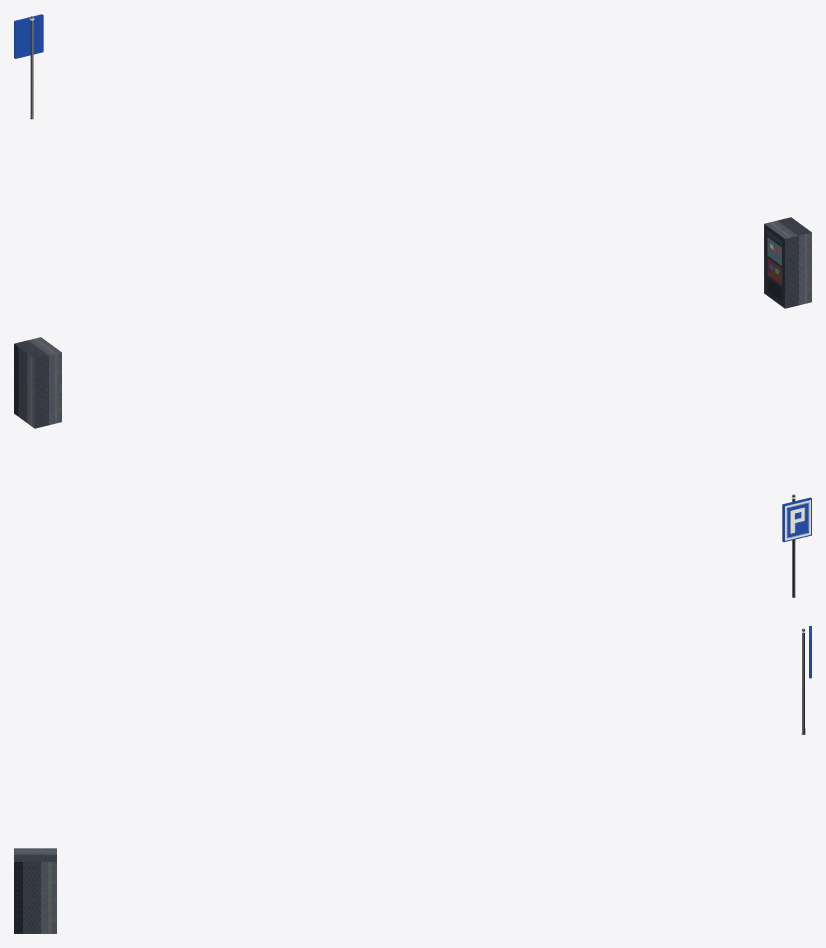
Rendered from lot_props.glb.
3 renders of one model, top to bottom at view 1: azimuth 30°, elevation 25°; view 2: azimuth 210°, elevation 25°; view 3: azimuth 270°, elevation 25°, orthographic. The views are drawn at different scales.
Visible parts, largest first — view 1: Vending, Sign; view 2: Vending, Sign; view 3: Vending.
Part boxes in pixels (bbox=[...]): Vending: bbox=[764, 217, 811, 308]; Sign: bbox=[14, 14, 43, 119]; Vending: bbox=[14, 337, 61, 428]; Sign: bbox=[782, 494, 811, 597]; Vending: bbox=[14, 848, 56, 933].
Bounding box in the file's own units: 11.39 × 2.7 × 18.6.
6 materials, 6 textured.
